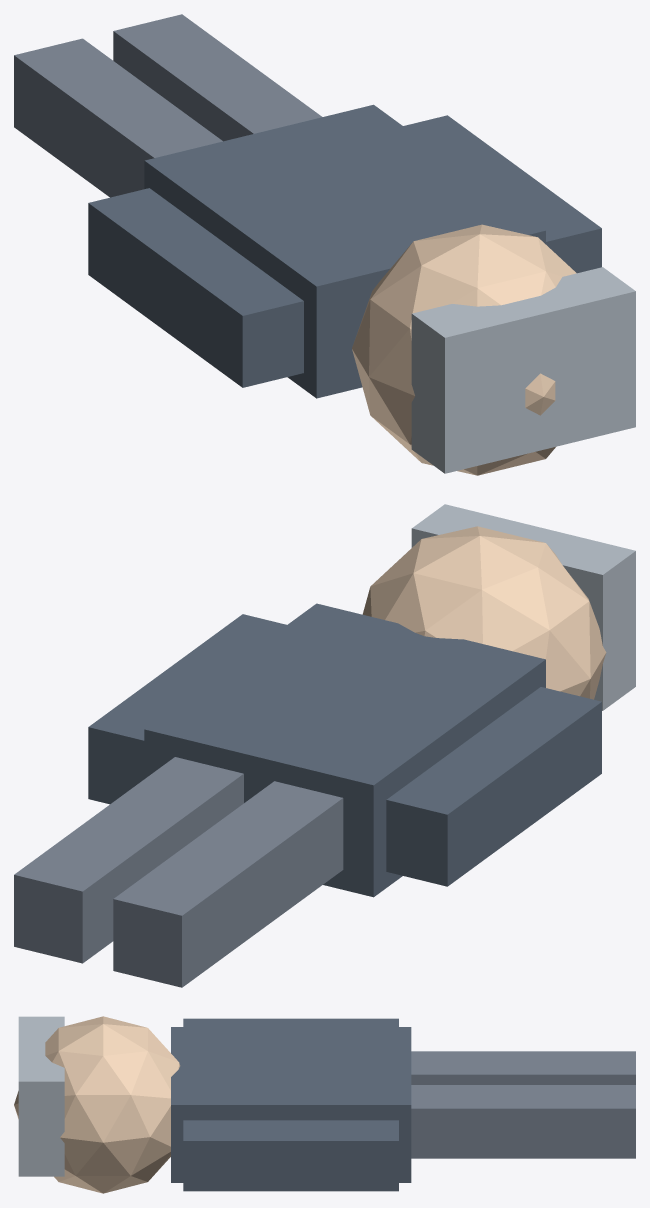
Rendered from ceo.glb.
The picture shows the model from 3 angles, top to bottom: view 1: azimuth 30°, elevation 25°; view 2: azimuth 150°, elevation 25°; view 3: azimuth 270°, elevation 25°; orthographic projection. The views are drawn at different scales.
Visible parts, largest first — view 1: torso, hair, arm_l, head, leg_l, leg_r, arm_r; view 2: torso, leg_l, arm_l, head, leg_r, hair, arm_r; view 3: torso, head, leg_r, arm_r, leg_l, hair, arm_l.
Part boxes in pixels (x1,y1,x2,y2): torso: (144,104,545,398); hair: (411,267,635,473); arm_l: (88,188,303,387); head: (352,224,576,475); leg_l: (14,38,222,197); leg_r: (113,14,322,141); arm_r: (403,115,601,273); torso: (144,603,545,897); leg_l: (113,781,343,987); arm_l: (386,687,601,886); head: (362,526,606,699); leg_r: (14,757,243,963); hair: (411,504,635,710); arm_r: (88,614,286,804); torso: (171,1027,411,1182); head: (14,1016,180,1193); leg_r: (411,1085,635,1158); arm_r: (183,1120,398,1191); leg_l: (411,1051,635,1084); hair: (18,1016,64,1176); arm_l: (183,1018,398,1026).
Size of the model in its own units: 0.94 by 0.58 by 2.02.
